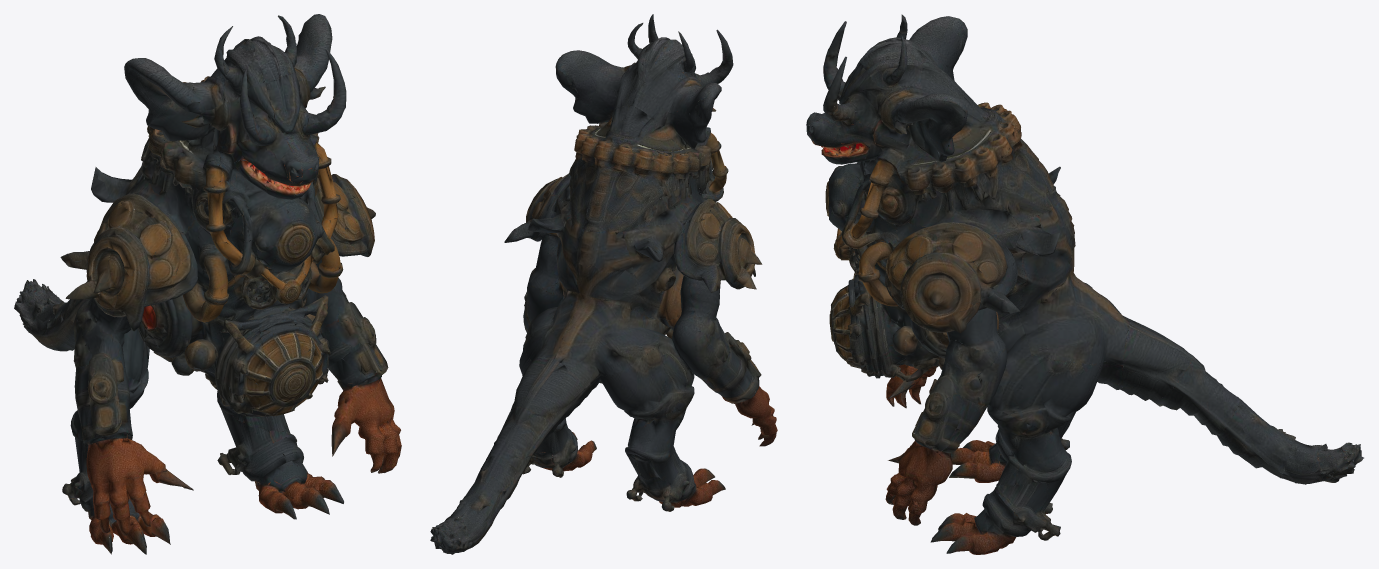
Rendered from haetae.glb.
3 renders of one model, left to right at view 1: azimuth 30°, elevation 25°; view 2: azimuth 150°, elevation 25°; view 3: azimuth 270°, elevation 25°, orthographic. The views are drawn at different scales.
Visible parts, largest first — view 1: mesh_node; view 2: mesh_node; view 3: mesh_node.
Part boxes in pixels (x1,y1,x2,y2): mesh_node: [14, 14, 401, 554]; mesh_node: [430, 14, 777, 554]; mesh_node: [806, 14, 1363, 554].
Size of the model in its own units: 1.94 by 3.2 by 3.36.
1 material, 1 textured.
